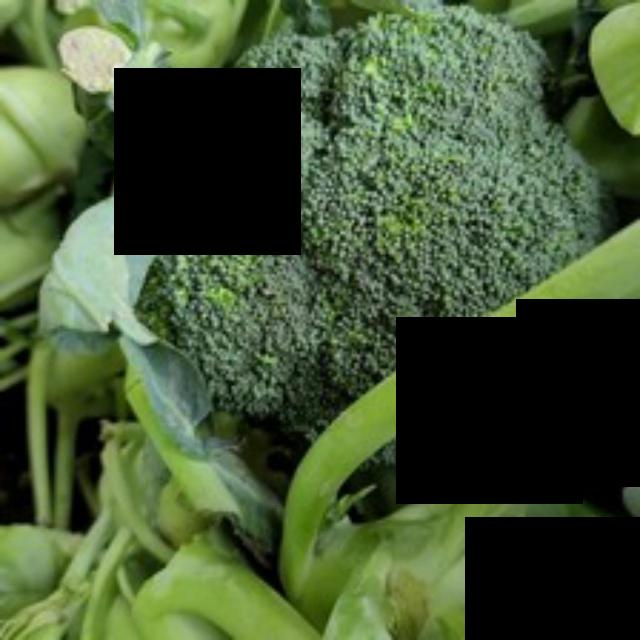broccoli: (148, 1, 608, 474)
